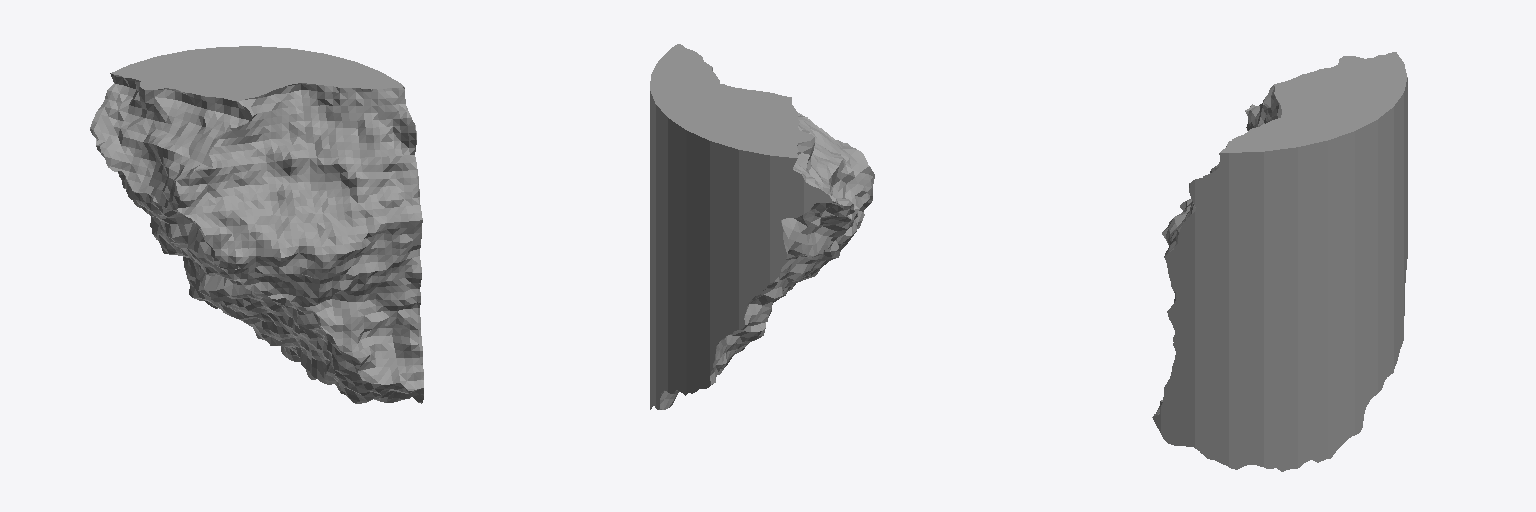
The model's file is Cylinder_shard.002.obj.
3 renders of one model, left to right at view 1: azimuth 30°, elevation 25°; view 2: azimuth 150°, elevation 25°; view 3: azimuth 270°, elevation 25°, orthographic.
Visible parts, largest first — view 1: Cylinder_shard.002_Cylinder_shard.014; view 2: Cylinder_shard.002_Cylinder_shard.014; view 3: Cylinder_shard.002_Cylinder_shard.014.
Part boxes in pixels (x1,y1,x2,y2): Cylinder_shard.002_Cylinder_shard.014: (90,46,423,403); Cylinder_shard.002_Cylinder_shard.014: (650,44,874,409); Cylinder_shard.002_Cylinder_shard.014: (1152,52,1407,471).
Bounding box in the file's own units: 1.55 × 2 × 1.43.